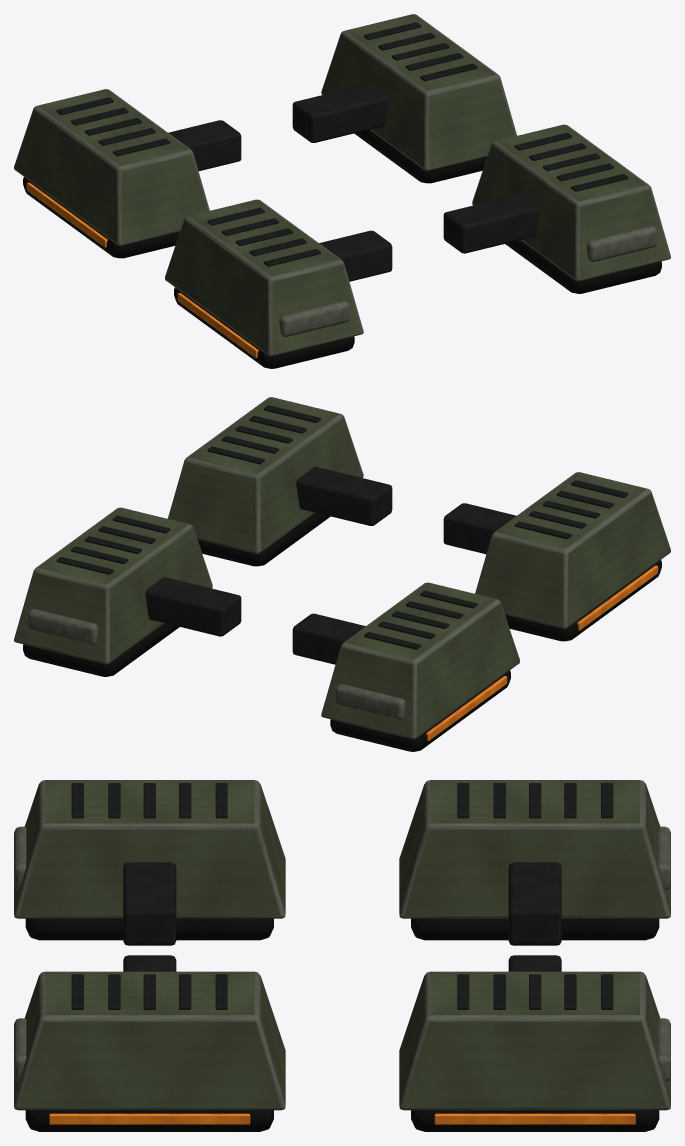
The model's file is bulwark-treads.fbx.
The picture shows the model from 3 angles, top to bottom: view 1: azimuth 30°, elevation 25°; view 2: azimuth 150°, elevation 25°; view 3: azimuth 270°, elevation 25°; orthographic projection. The views are drawn at different scales.
Visible parts, largest first — view 1: bulwark-treads_Armor, bulwark-treads_Steel, bulwark-treads_Rubber, bulwark-treads_Edge, bulwark-treads_Optic; view 2: bulwark-treads_Armor, bulwark-treads_Steel, bulwark-treads_Rubber, bulwark-treads_Edge, bulwark-treads_Optic; view 3: bulwark-treads_Armor, bulwark-treads_Steel, bulwark-treads_Rubber, bulwark-treads_Optic, bulwark-treads_Edge.
Boxes of the visible parts, bbox=[...] form: bulwark-treads_Armor: bbox=[14, 14, 670, 356]; bulwark-treads_Steel: bbox=[56, 22, 628, 281]; bulwark-treads_Rubber: bbox=[23, 129, 661, 368]; bulwark-treads_Edge: bbox=[279, 226, 656, 336]; bulwark-treads_Optic: bbox=[26, 182, 258, 357]; bulwark-treads_Armor: bbox=[14, 397, 670, 739]; bulwark-treads_Steel: bbox=[56, 405, 628, 664]; bulwark-treads_Rubber: bbox=[23, 512, 661, 751]; bulwark-treads_Edge: bbox=[28, 609, 405, 719]; bulwark-treads_Optic: bbox=[426, 565, 658, 740]; bulwark-treads_Armor: bbox=[14, 780, 670, 1110]; bulwark-treads_Steel: bbox=[71, 783, 613, 1009]; bulwark-treads_Rubber: bbox=[25, 918, 659, 1131]; bulwark-treads_Optic: bbox=[49, 1113, 635, 1124]; bulwark-treads_Edge: bbox=[14, 826, 670, 1081].
Size of the model in its own units: 438 by 95.75 by 484.
Materials: 5 (5 with a texture image).
